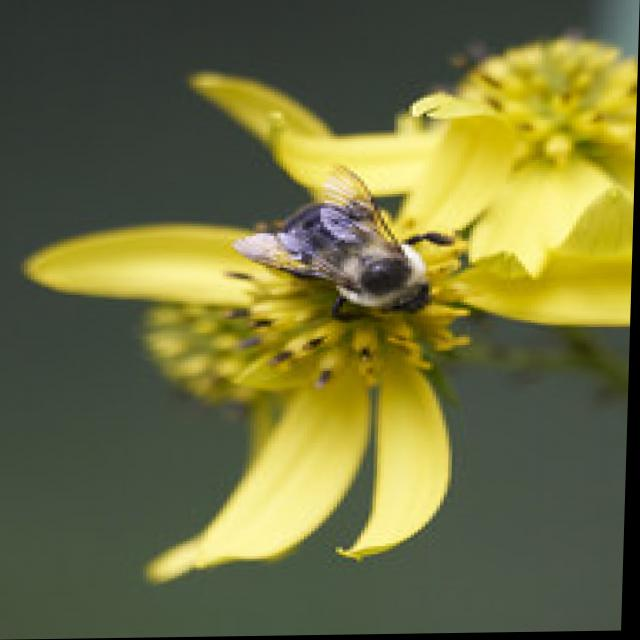Abeille: (208, 153, 466, 326)
